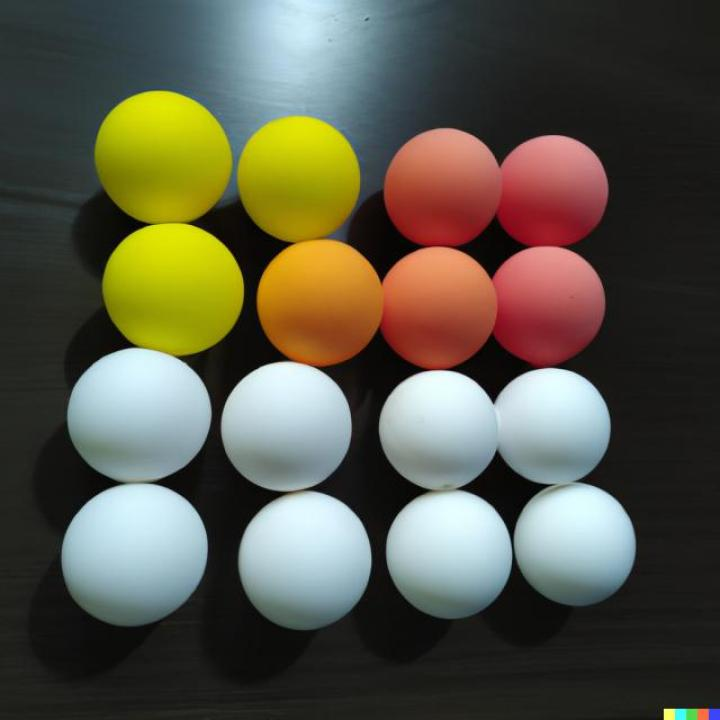orange: (256, 239, 382, 367)
white: (62, 482, 207, 625), (69, 348, 211, 481), (238, 492, 372, 628), (222, 362, 351, 491), (386, 490, 511, 619), (515, 483, 636, 608), (380, 369, 500, 491), (497, 367, 611, 485)
